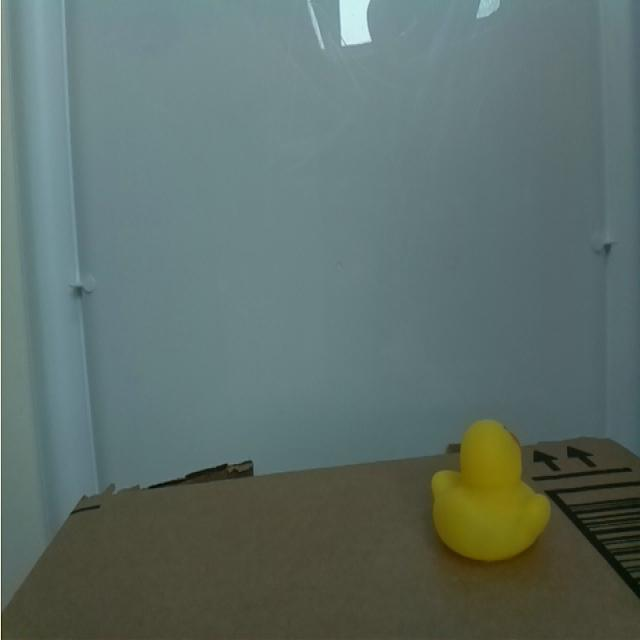duck_regular: (408, 402, 559, 583)
